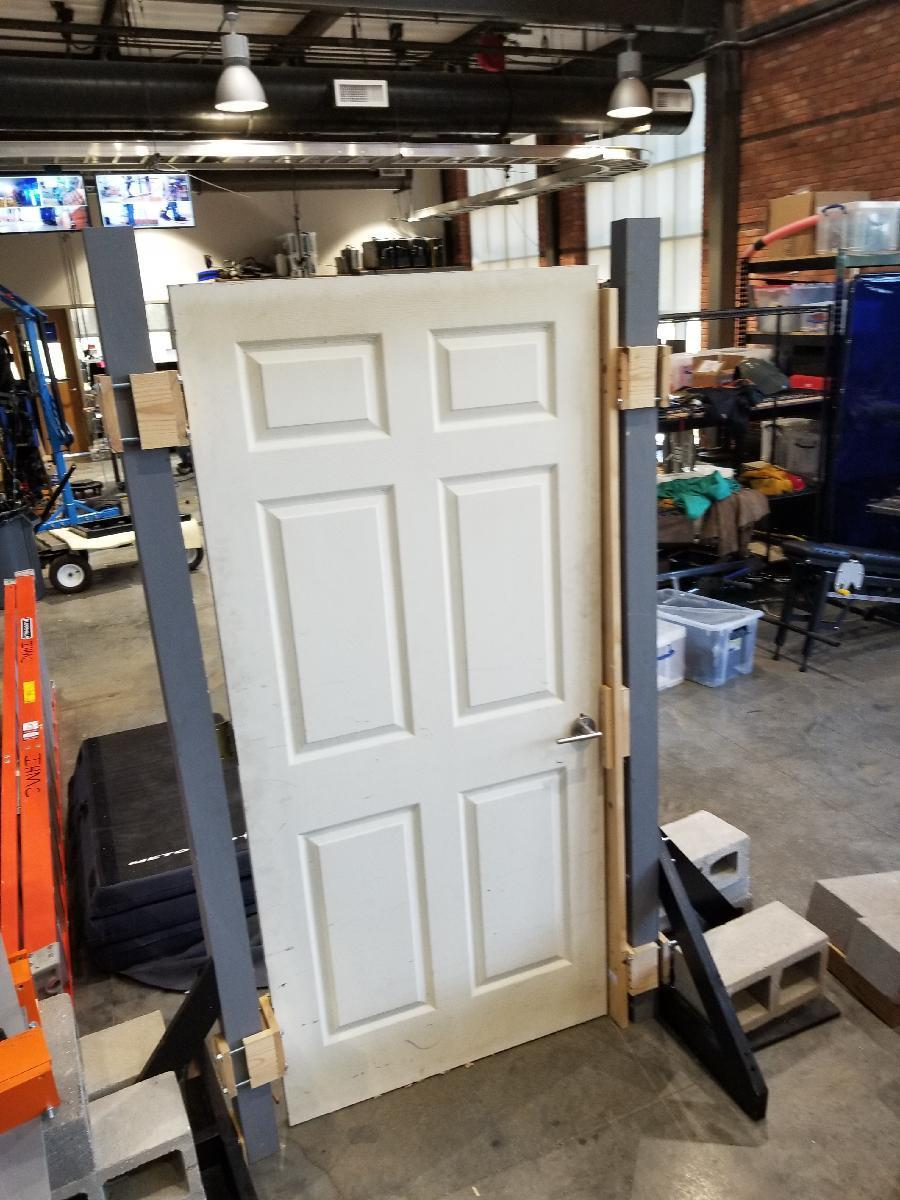door: (246, 285, 615, 1082)
handle: (553, 712, 606, 751)
